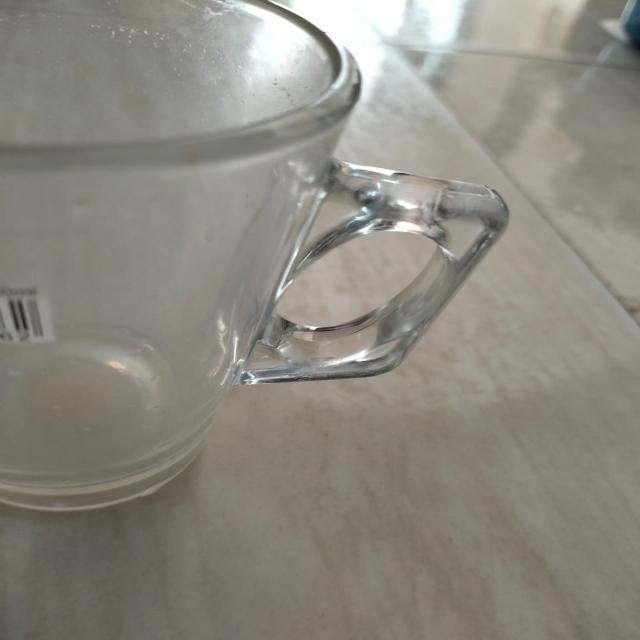glass-VX4N: (6, 0, 514, 514)
